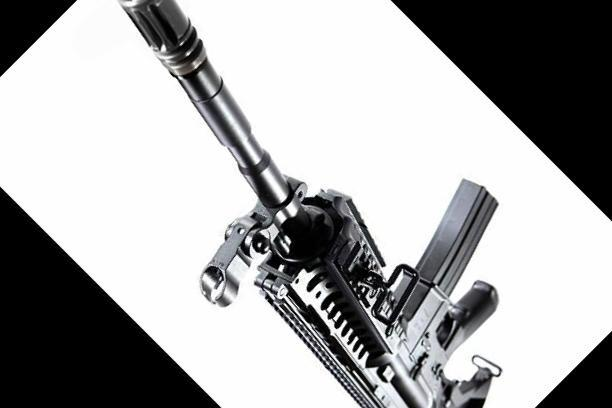larga: (117, 0, 503, 408)
